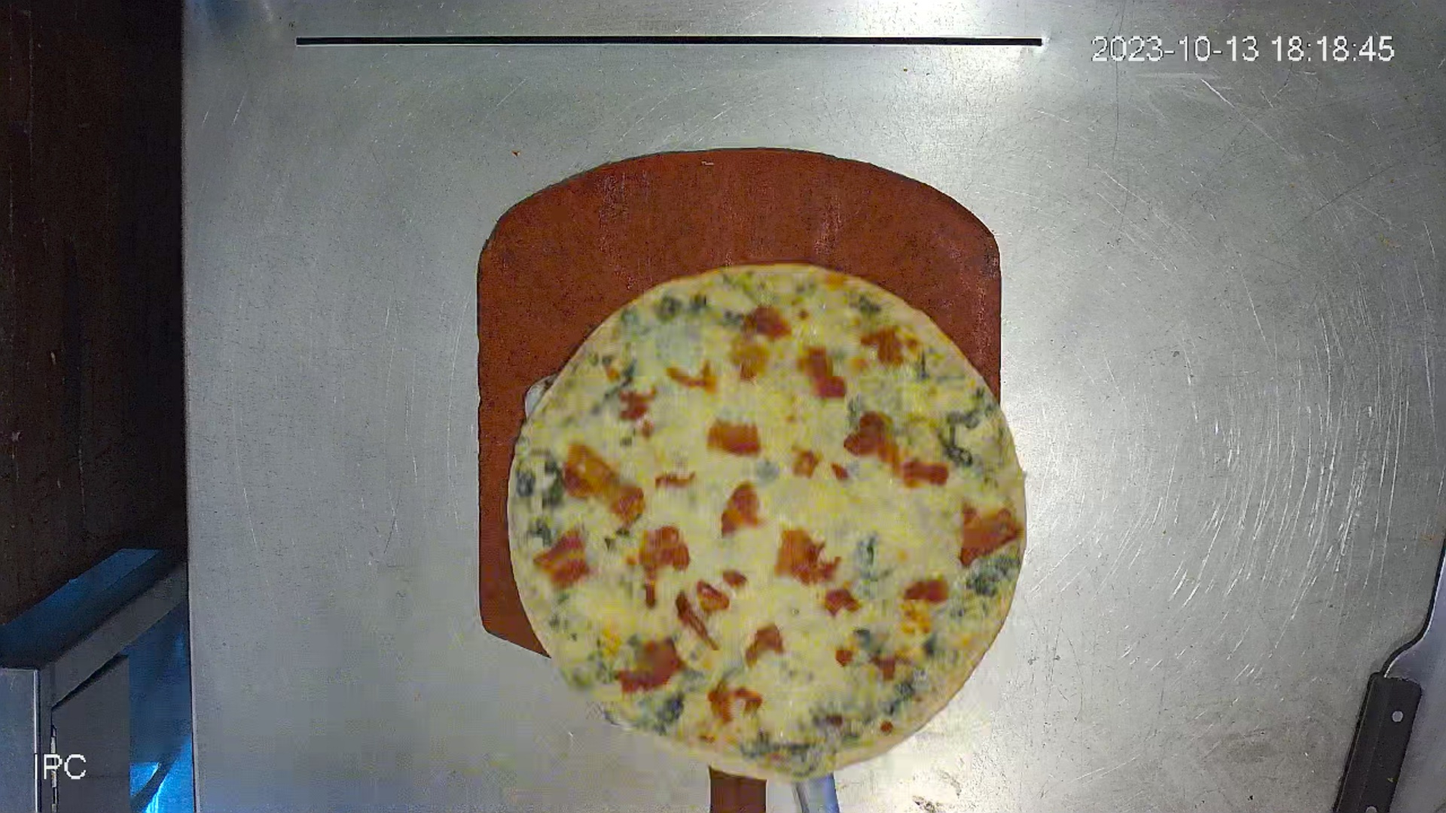bianca: (504, 259, 1033, 783)
